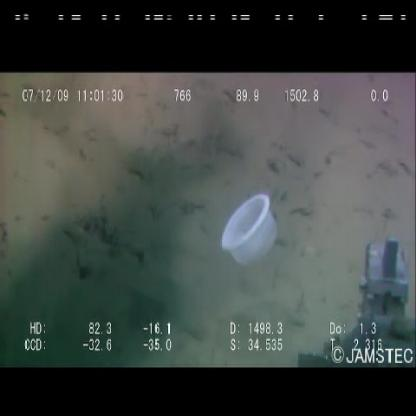Rov: (295, 232, 416, 362)
Rác: (219, 191, 279, 268)
